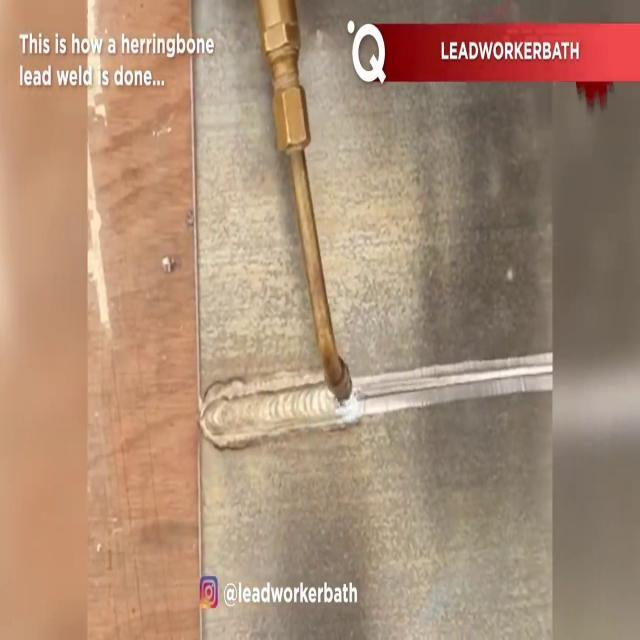Good Weld: (203, 394, 331, 434)
